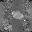people: (11, 11, 23, 20)
